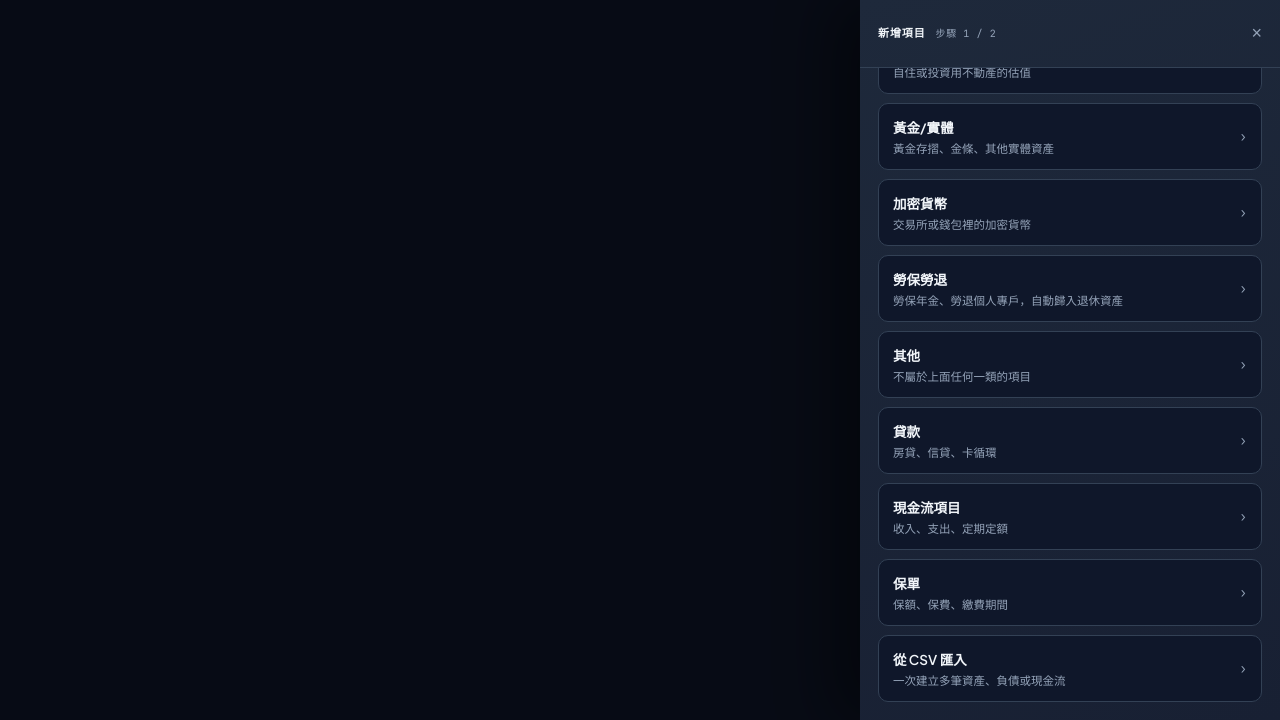
Scenario: a loan form › has no group to pick, labels the amount as what's left, and says how short/long-term is told
(page scrolled)
Step 1. Click the button "貸款" → (906, 431), box [893,423,920,440]
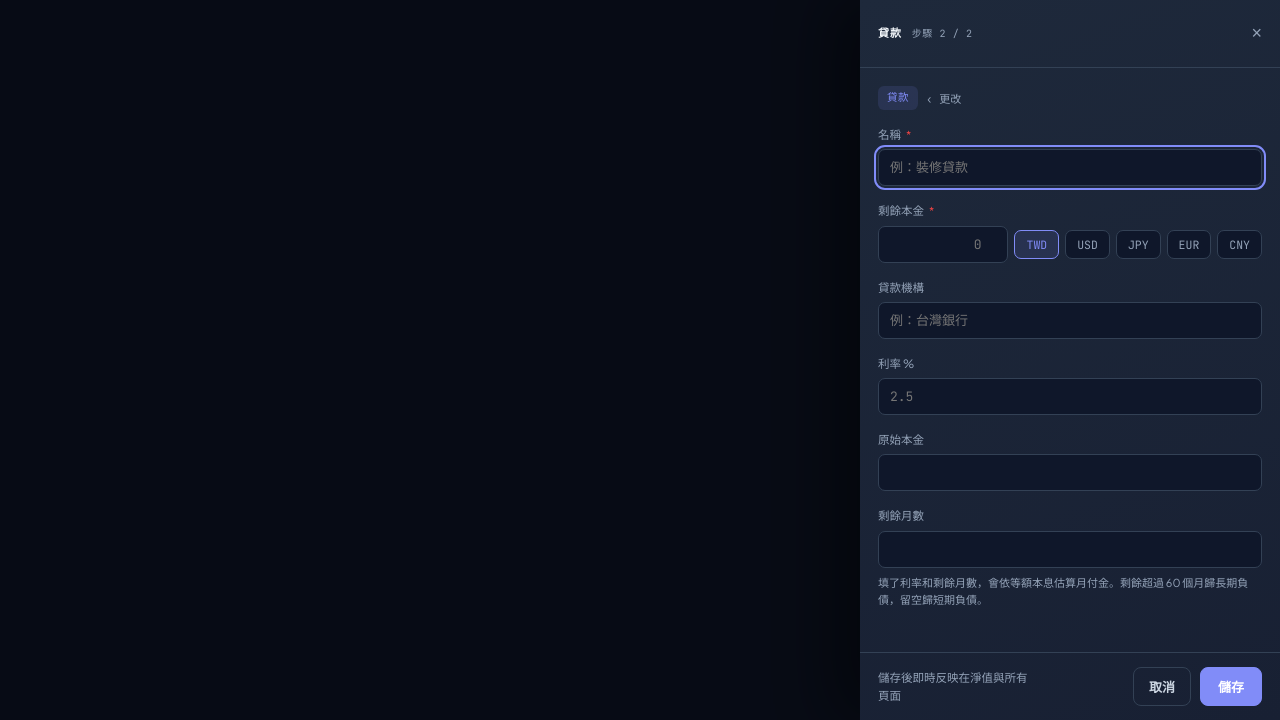
Expected: the text "剩餘本金" is shown, [878,203,924,218]
Expected: the text "填了利率和剩餘月數，會依等額本息估算月付金。剩餘超過 60 個月歸長期負債，留空歸短期負債。" is shown, [878,574,1262,609]
Expected: the field with placeholder "例：裝修貸款" is shown, [878,149,1262,186]
